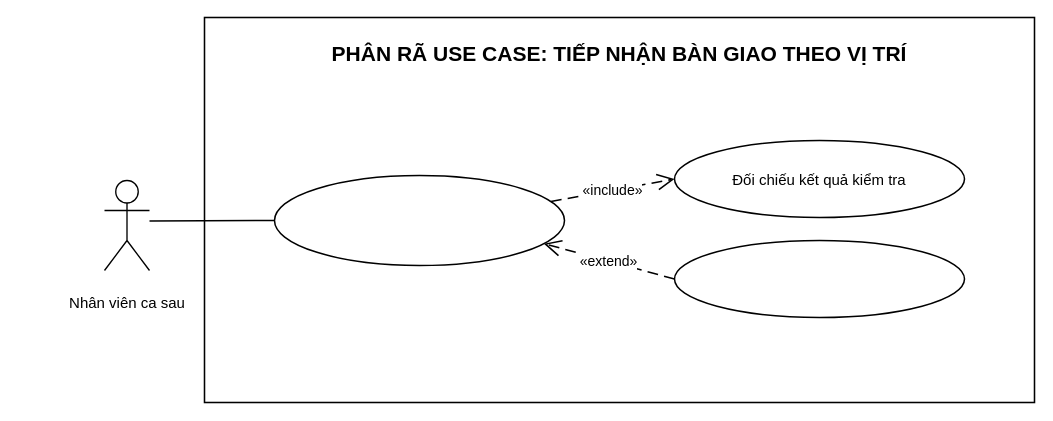
This 1053x421 diagram has some shape labels left out. Here are the shapes that lost their labels. From the top down, the centre of each, then its label:
(x=419, y=220): Tiếp nhận bàn giao theo vị trí
(x=819, y=278): Ghi nhận thiếu sót bàn giao
